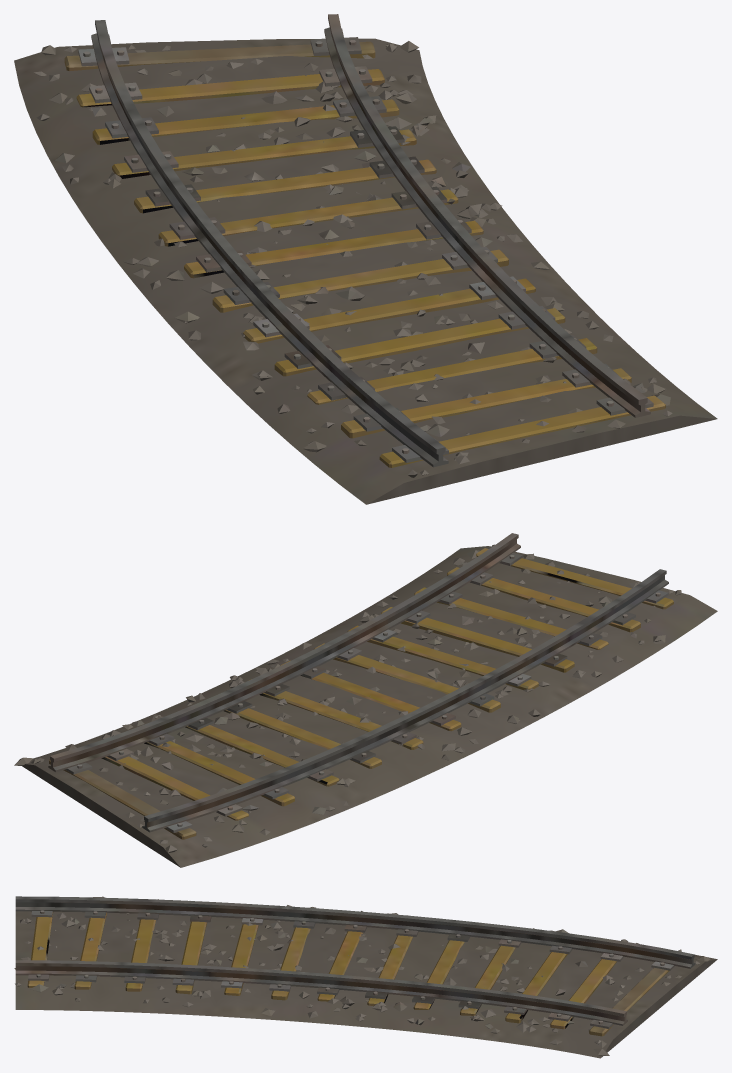
File: curved-rail-a-ne.glb
3 views of the same model, one above another, from view 1: azimuth 30°, elevation 25°; view 2: azimuth 150°, elevation 25°; view 3: azimuth 270°, elevation 25° (orthographic). The views are drawn at different scales.
Parts seen in each view (by area): view 1: body; view 2: body; view 3: body.
Boxes of the visible parts, x1,y1,x2,y2 form: body: (14, 14, 717, 504); body: (14, 533, 717, 867); body: (14, 896, 717, 1058).
Size of the model in its own units: 2.93 by 0.2221 by 5.47.
Materials: 1 (1 with a texture image).
